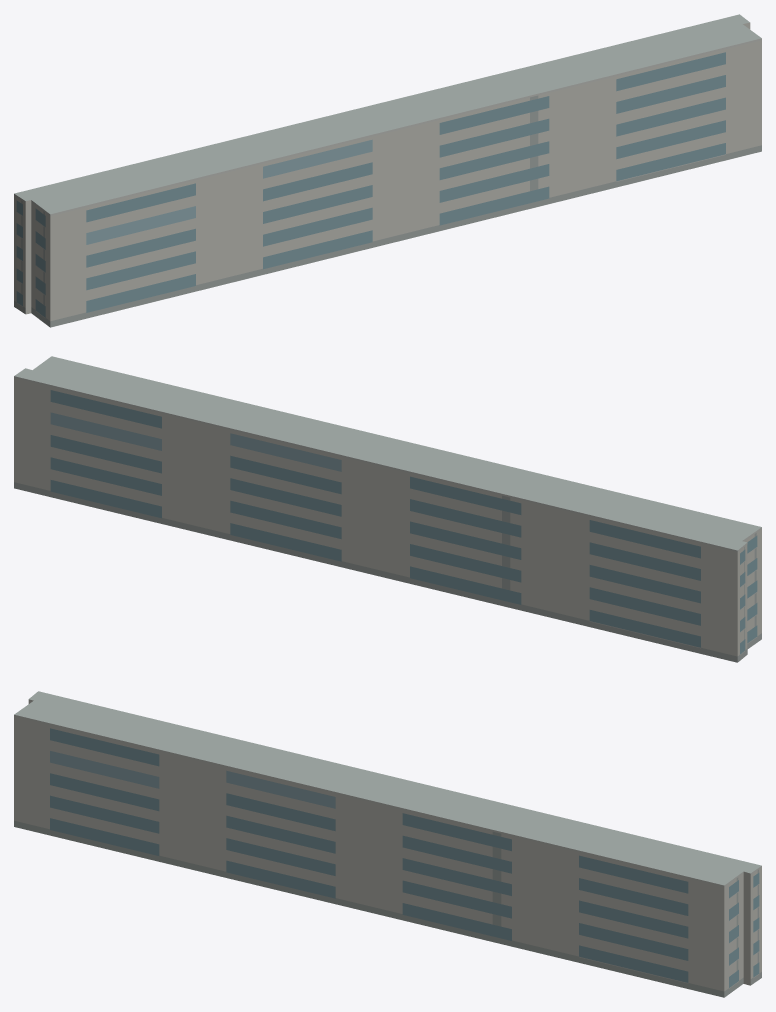
The model's file is survey-upis-32995301.glb.
The picture shows the model from 3 angles, top to bottom: view 1: azimuth 30°, elevation 25°; view 2: azimuth 150°, elevation 25°; view 3: azimuth 330°, elevation 25°; orthographic projection.
Visible parts, largest first — view 1: survey-upis-32995301.tmp; view 2: survey-upis-32995301.tmp; view 3: survey-upis-32995301.tmp.
Boxes of the visible parts, x1,y1,x2,y2 form: survey-upis-32995301.tmp: [14, 14, 761, 327]; survey-upis-32995301.tmp: [14, 356, 761, 662]; survey-upis-32995301.tmp: [14, 691, 761, 997].
Bounding box in the file's own units: 103 × 15.25 × 7.97.
